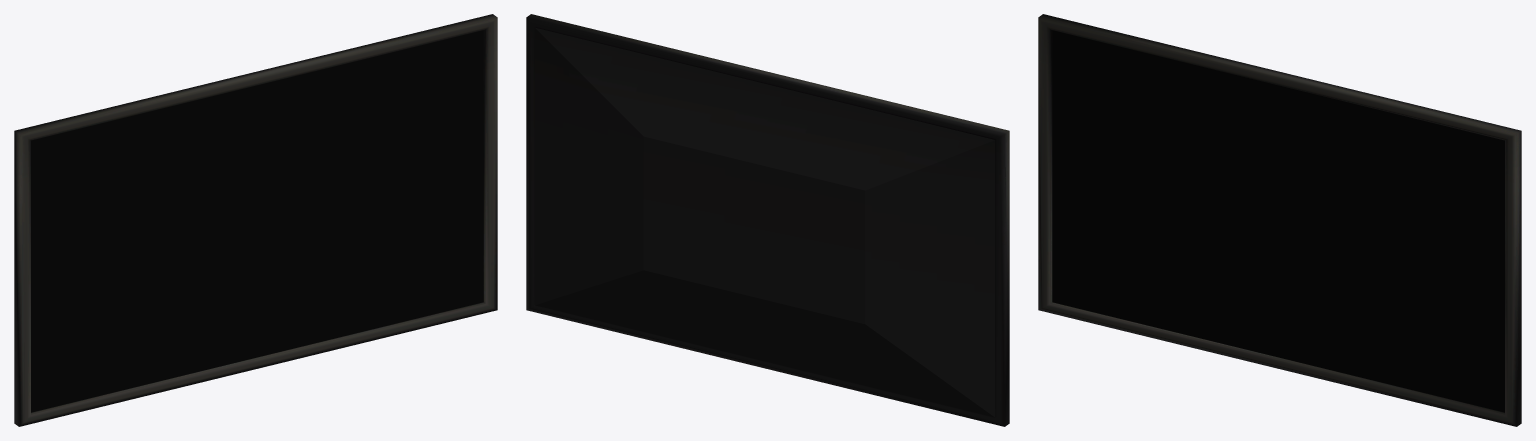
Rendered from SM_Wall_TV.FBX.
3 renders of one model, left to right at view 1: azimuth 30°, elevation 25°; view 2: azimuth 150°, elevation 25°; view 3: azimuth 330°, elevation 25°, orthographic.
Parts seen in each view (by area): view 1: SM_Wall_TV; view 2: SM_Wall_TV; view 3: SM_Wall_TV.
Boxes of the visible parts, x1=… form: SM_Wall_TV: x1=14, y1=14, x2=497, y2=426; SM_Wall_TV: x1=526, y1=14, x2=1009, y2=426; SM_Wall_TV: x1=1038, y1=14, x2=1521, y2=426.
Size of the model in its own units: 161 by 9.39 by 93.92.
